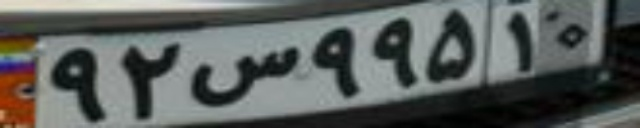0: (549, 21, 591, 50)
1: (502, 10, 532, 73)
2: (119, 39, 176, 121)
5: (425, 10, 473, 83)
9: (50, 45, 104, 122), (312, 25, 355, 97), (374, 16, 416, 87)
sin: (188, 45, 302, 108)
